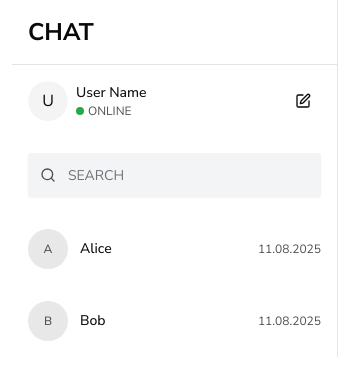
Scenario: ChatSidebar › filters contacts by search
Type "Bob" into the field with placeholder "SEARCH" at (174, 175), box [28, 153, 321, 197]
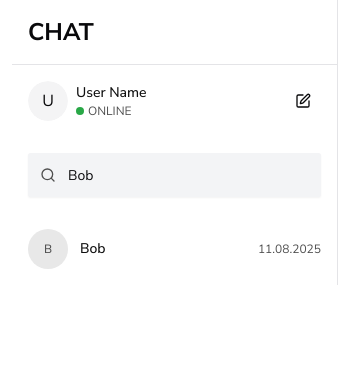
Check: the text "Bob" is shown, box [80, 239, 106, 259]
Check: the button "Alice" is gone
